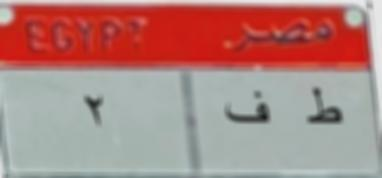2: (79, 89, 113, 132)
Taa: (303, 84, 347, 141)
faa: (220, 90, 277, 134)
